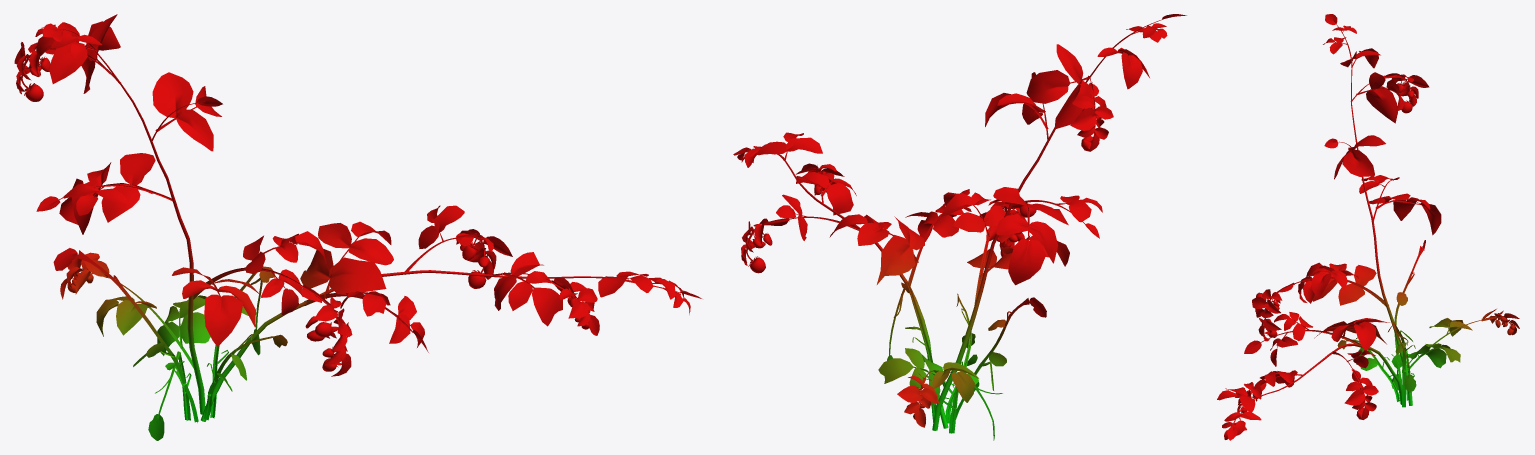
Rendered from Raspberry_LOD0_Var6_wf0oefeja.fbx.
3 renders of one model, left to right at view 1: azimuth 30°, elevation 25°; view 2: azimuth 150°, elevation 25°; view 3: azimuth 270°, elevation 25°, orthographic. The views are drawn at different scales.
Parts seen in each view (by area): view 1: _ki17_Var6_LOD0; view 2: _ki17_Var6_LOD0; view 3: _ki17_Var6_LOD0.
Boxes of the visible parts, bbox=[...] form: _ki17_Var6_LOD0: bbox=[14, 14, 701, 440]; _ki17_Var6_LOD0: bbox=[733, 14, 1186, 440]; _ki17_Var6_LOD0: bbox=[1217, 14, 1519, 440].
Bounding box in the file's own units: 75.28 × 59.66 × 50.56.
